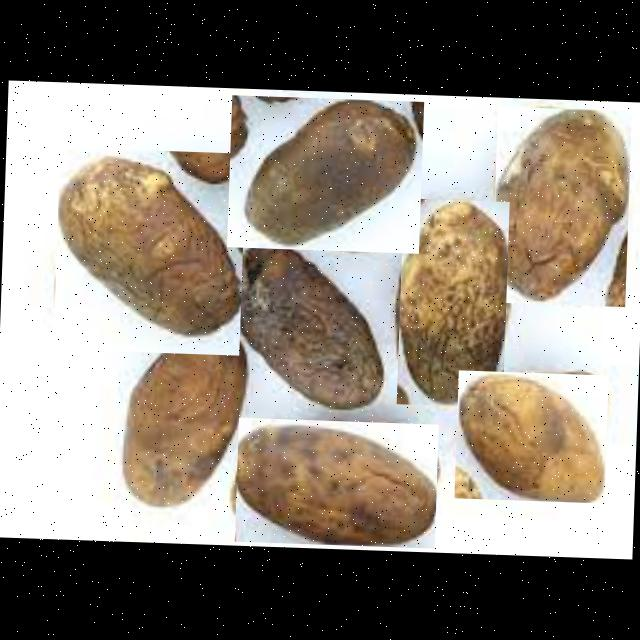Damaged potato: (53, 147, 246, 355), (206, 240, 389, 414), (226, 94, 424, 253), (491, 106, 632, 307), (234, 417, 438, 548), (396, 198, 509, 408), (125, 326, 250, 512), (454, 370, 608, 503)
